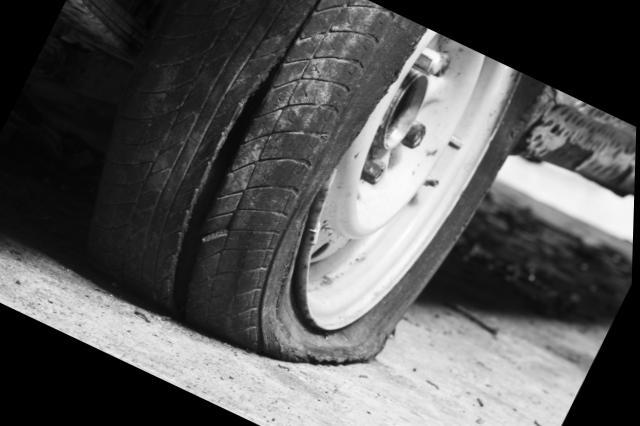tire flat: (92, 0, 543, 365)
